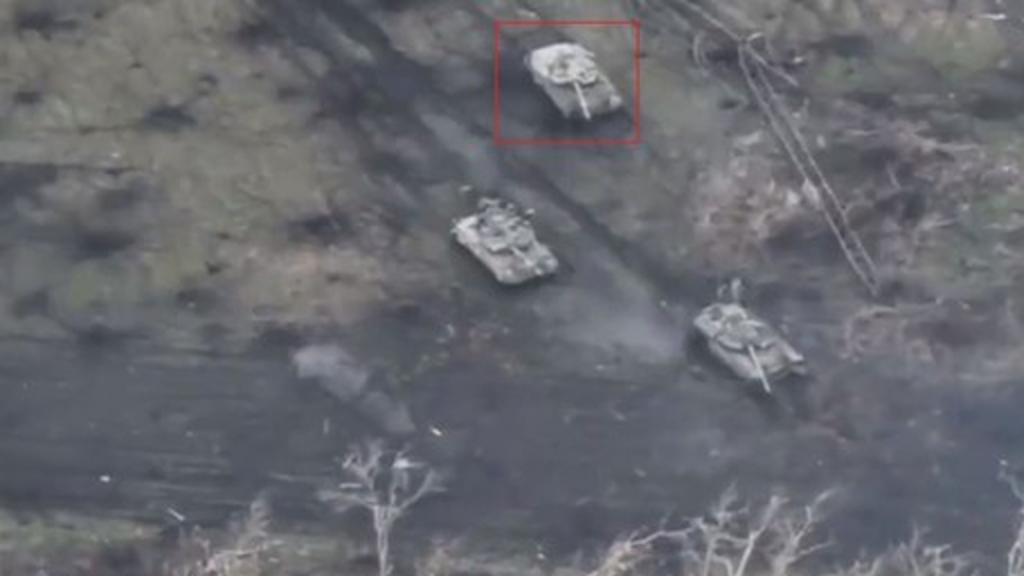TANK: (676, 292, 808, 396), (438, 190, 570, 290), (524, 38, 626, 126)
